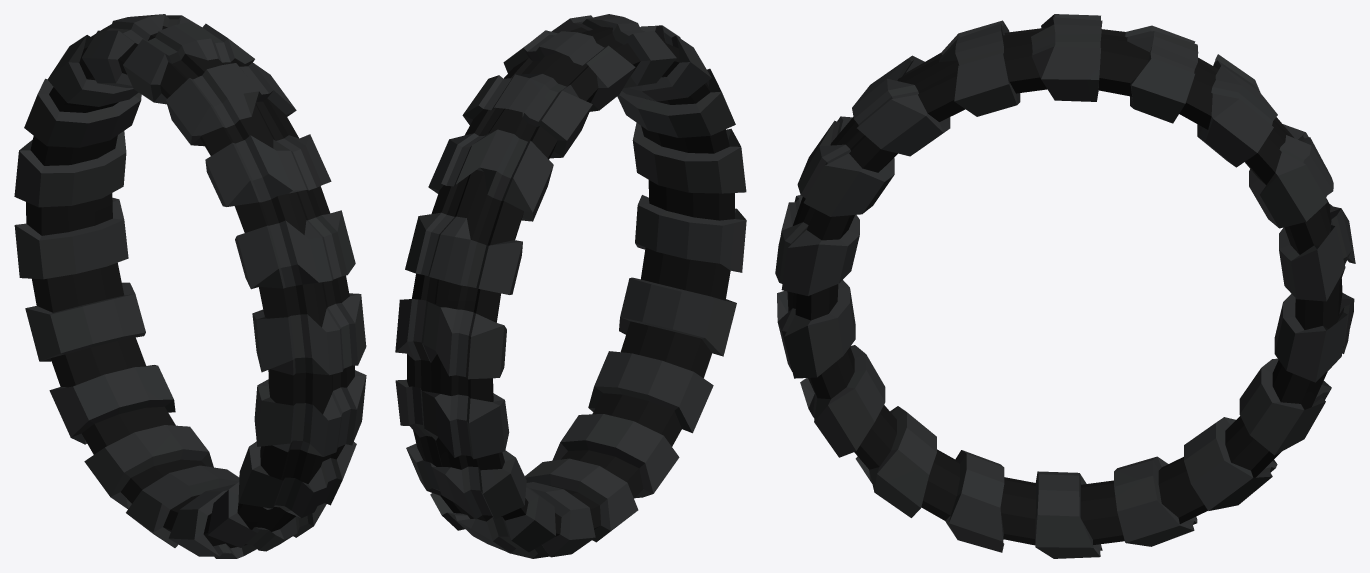
File: OffRoadTire.fbx
3 views of the same model, side by side, from view 1: azimuth 30°, elevation 25°; view 2: azimuth 150°, elevation 25°; view 3: azimuth 270°, elevation 25° (orthographic). The views are drawn at different scales.
Parts seen in each view (by area): view 1: OffRoadTire; view 2: OffRoadTire; view 3: OffRoadTire.
Boxes of the visible parts, x1,y1,x2,y2 form: OffRoadTire: (14,14,366,558); OffRoadTire: (395,14,746,558); OffRoadTire: (775,14,1355,558).
Size of the model in its own units: 0.7586 by 3.47 by 3.46.
